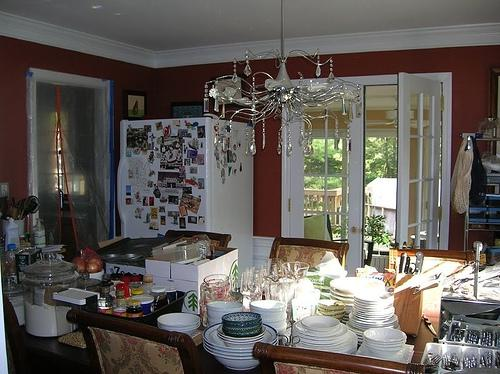onion: (72, 257, 86, 272), (88, 258, 103, 271), (86, 262, 100, 273)
